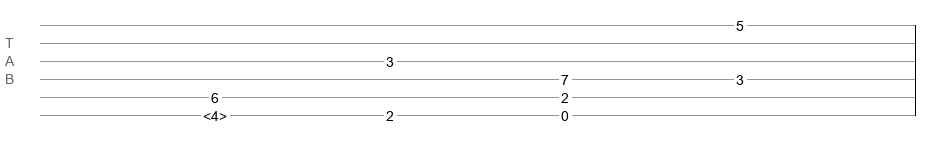0: (561, 108, 569, 118)
2: (386, 108, 394, 118), (561, 90, 569, 100)
3: (386, 54, 394, 64), (736, 72, 744, 82)
5: (736, 18, 744, 28)
6: (211, 90, 219, 100)
7: (561, 72, 569, 82)
harmonic: (203, 108, 227, 118)
